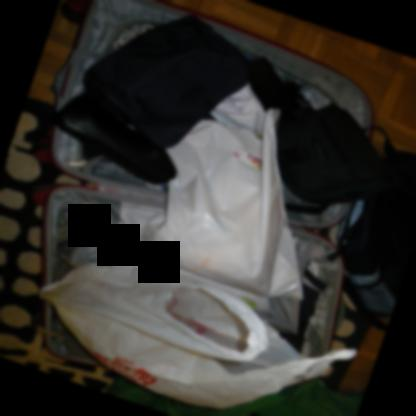backpack: (345, 151, 416, 332)
handbag: (245, 58, 393, 206)
suitcase: (41, 0, 368, 364)
